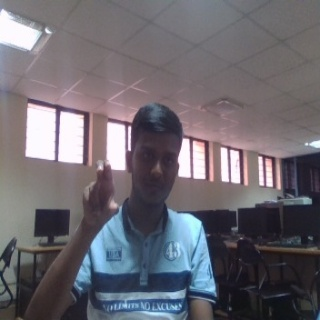Face: (125, 104, 183, 207)
No: (80, 159, 120, 229)
